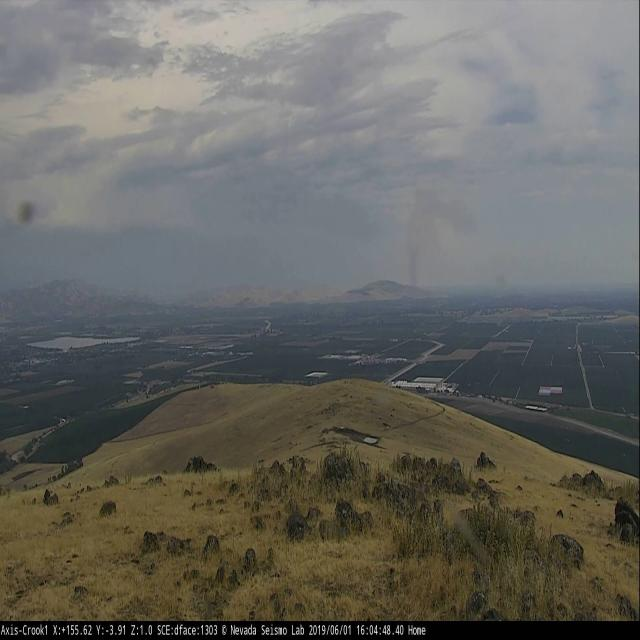smoke: (404, 187, 477, 286)
